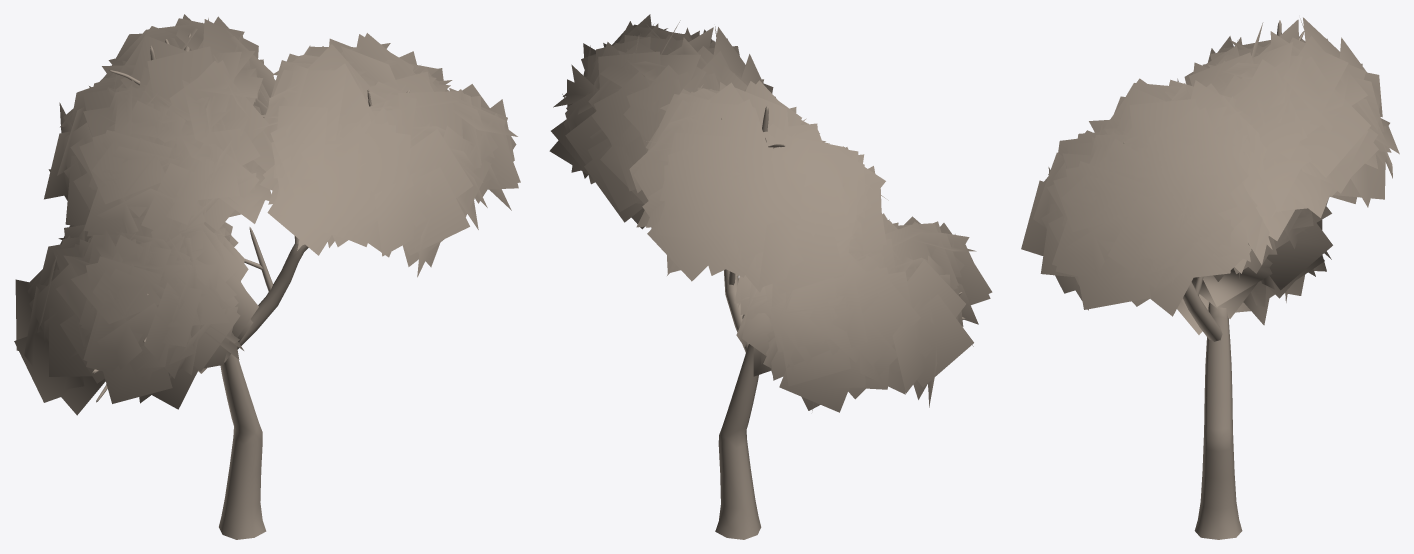
File: MapleTree_5.glb
3 views of the same model, side by side, from view 1: azimuth 30°, elevation 25°; view 2: azimuth 150°, elevation 25°; view 3: azimuth 270°, elevation 25° (orthographic). The views are drawn at different scales.
Parts seen in each view (by area): view 1: MapleTree_Leaves, MapleTree_Bark; view 2: MapleTree_Leaves, MapleTree_Bark; view 3: MapleTree_Leaves, MapleTree_Bark.
Boxes of the visible parts, bbox=[...] form: MapleTree_Leaves: bbox=[14, 14, 520, 415]; MapleTree_Bark: bbox=[91, 33, 410, 539]; MapleTree_Leaves: bbox=[549, 14, 992, 412]; MapleTree_Bark: bbox=[715, 105, 965, 539]; MapleTree_Leaves: bbox=[1021, 17, 1399, 334]; MapleTree_Bark: bbox=[1123, 20, 1304, 539].
Size of the model in its own units: 7.01 by 7.28 by 5.08.
